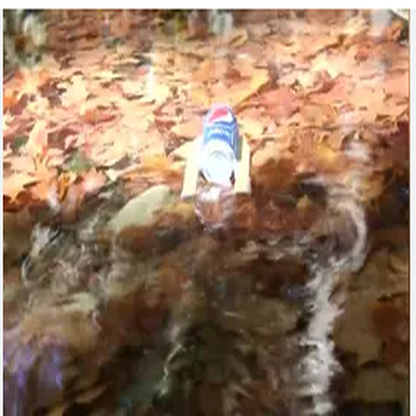can: (192, 101, 245, 180)
